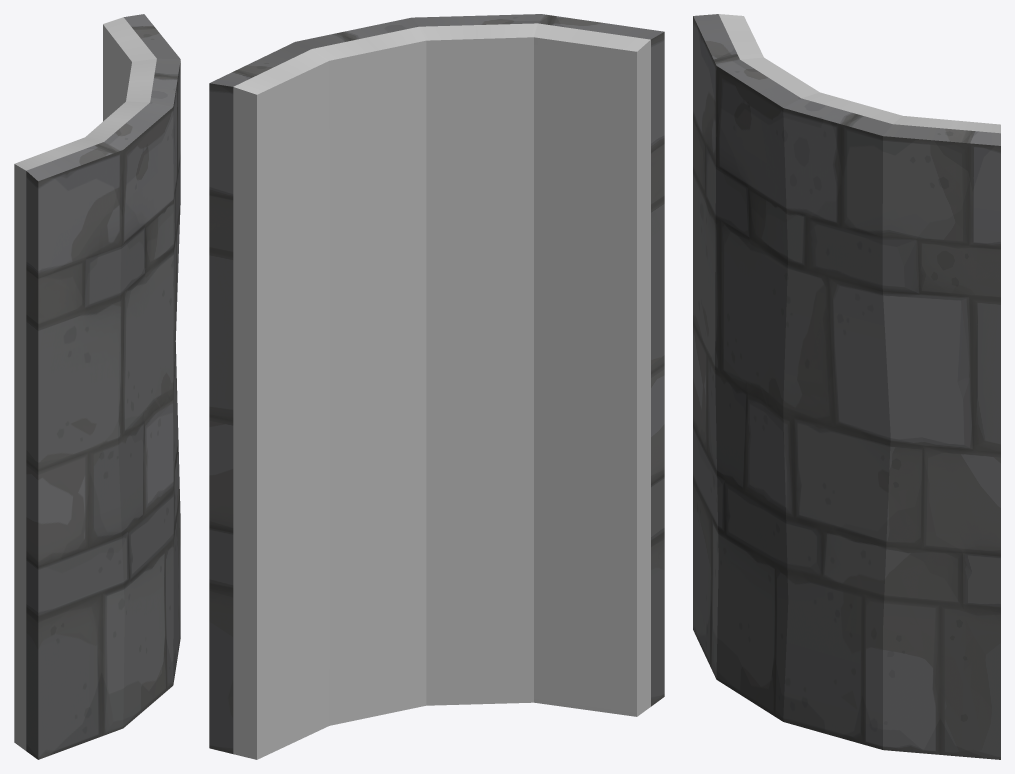
File: SM_Bld_Wall_L_Curve_01.fbx
3 views of the same model, side by side, from view 1: azimuth 30°, elevation 25°; view 2: azimuth 150°, elevation 25°; view 3: azimuth 270°, elevation 25° (orthographic). The views are drawn at different scales.
Parts seen in each view (by area): view 1: SM_Bld_Wall_L_Curve_01; view 2: SM_Bld_Wall_L_Curve_01; view 3: SM_Bld_Wall_L_Curve_01.
Boxes of the visible parts, x1,y1,x2,y2 form: SM_Bld_Wall_L_Curve_01: (14,14,180,759); SM_Bld_Wall_L_Curve_01: (209,14,664,759); SM_Bld_Wall_L_Curve_01: (693,14,1000,759).
Size of the model in its own units: 272 by 602 by 272.
